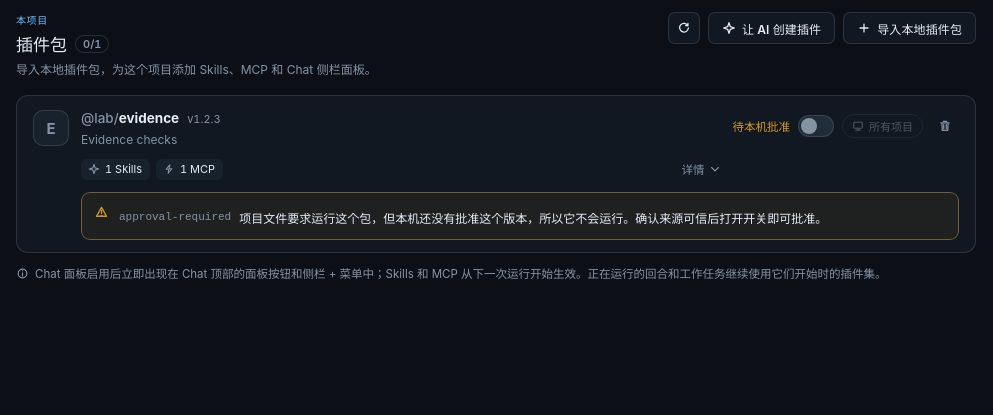
Test: Plugin packages › explains a package the project asks for but this computer has not approved
Expected: the text "待本机批准" is shown, [732,118,790,134]
Expected: the text "项目文件要求运行这个包，但本机还没有批准这个版本，所以它不会运行。确认来源可信后打开开关即可批准。" is shown, [239,209,827,229]
Approving goes through the same reviewed confirmation as enabling.
Click the switch named "启用 @lab/evidence".
click(816, 126)  # box [798,115,834,137]
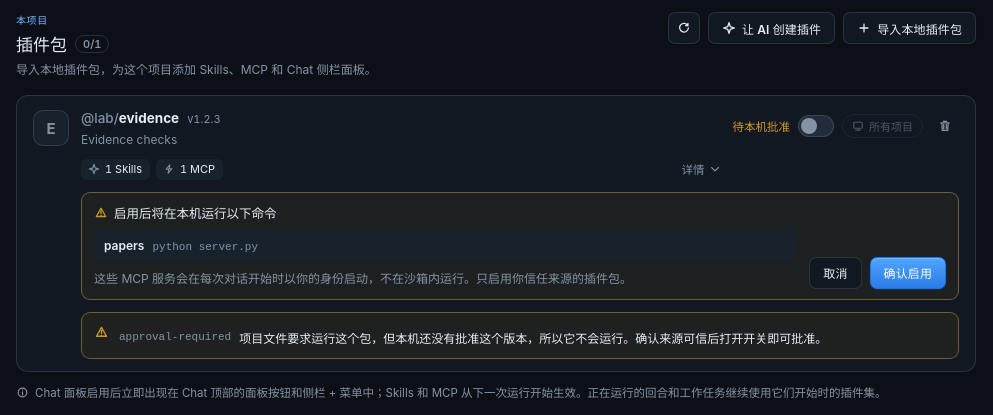
Expected: the element named "启用 @lab/evidence" is shown, [81,192,959,300]
